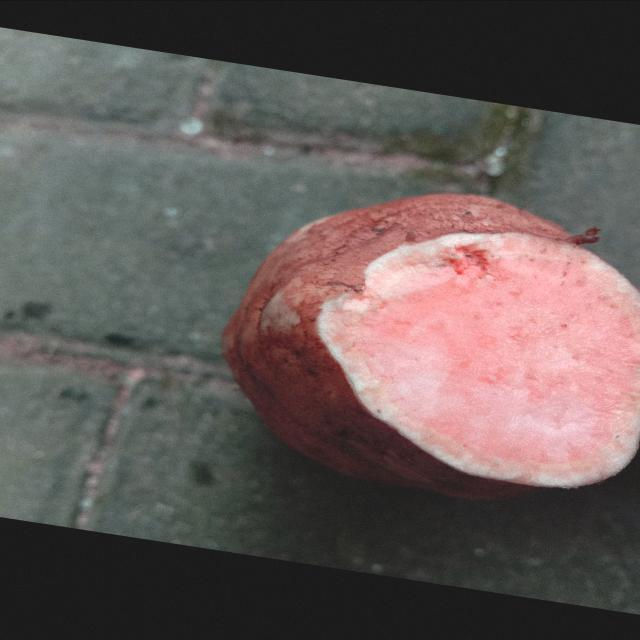Healthy Sweet Potato: (318, 231, 640, 486)
